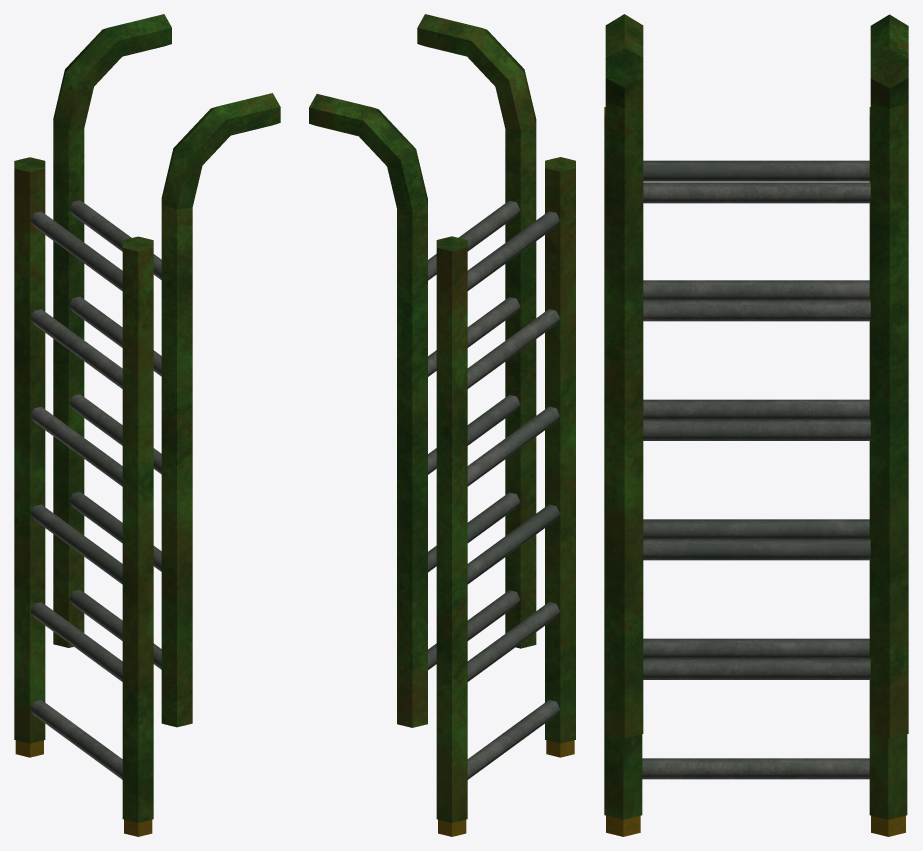
Rendered from Ladder_Test_02.fbx.
3 views of the same model, side by side, from view 1: azimuth 30°, elevation 25°; view 2: azimuth 150°, elevation 25°; view 3: azimuth 270°, elevation 25° (orthographic). The views are drawn at different scales.
Parts seen in each view (by area): view 1: Line007, Ladder_End; view 2: Line007, Ladder_End; view 3: Ladder_End, Line007.
Boxes of the visible parts, box(x1,y1,x2,y2) form: Line007: box(14, 157, 153, 836); Ladder_End: box(53, 14, 280, 727); Line007: box(436, 157, 575, 836); Ladder_End: box(309, 14, 536, 727); Ladder_End: box(605, 14, 908, 738); Line007: box(604, 107, 907, 836).
Size of the model in its own units: 25.38 by 113 by 36.32.
